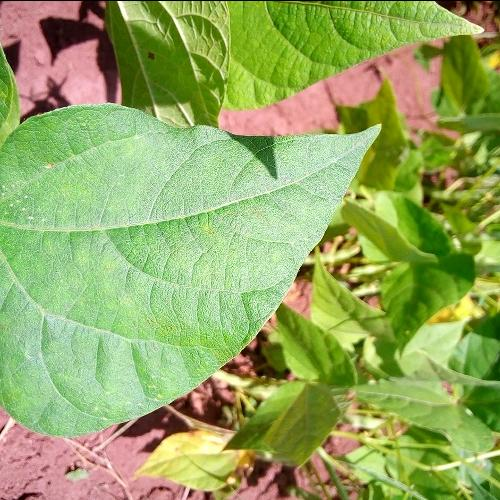hawar: (79, 364, 198, 421), (0, 146, 58, 242)
